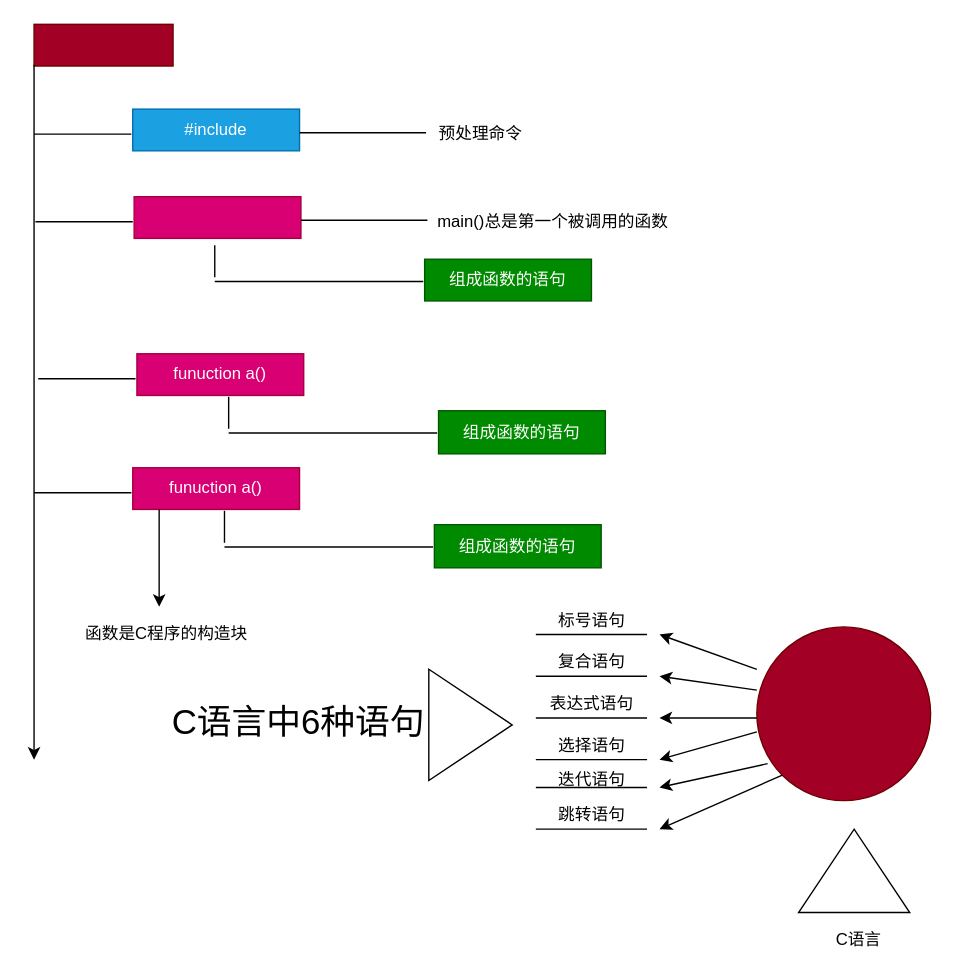
This 955x979 diagram has some shape labels left out. The centre of each missing label's shape, as x and y in pixels:
"int main (void)" belongs at point (217, 216).
"关键字 标识符 运算符 数据" belongs at point (843, 713).
"典型的C程序" belongs at point (103, 44).
